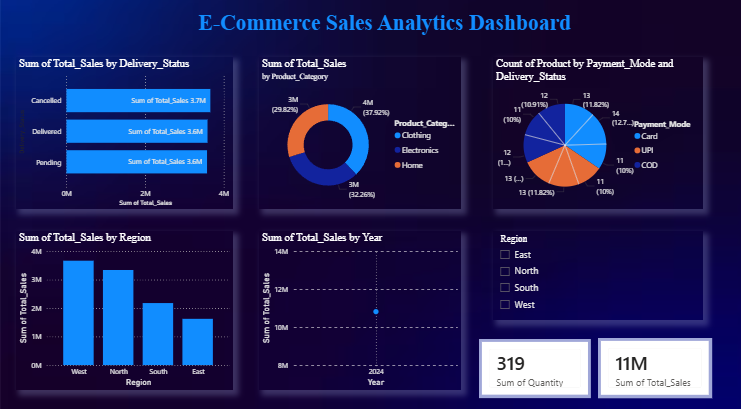

What the dashboard file says about the page in this screenshot:
{"tool":"powerbi","page":{"name":"Page 1","canvas":[1280,720],"ordinal":0},"visuals":[{"type":"barChart","fields":{"Category":["Ecommerce_Data.Delivery_Status"],"Y":["Sum(Ecommerce_Data.Total_Sales)"]},"box":[27.6,98.3,374.3,262.2],"z":0},{"type":"columnChart","fields":{"Category":["Ecommerce_Data.Region"],"Y":["Sum(Ecommerce_Data.Total_Sales)"]},"box":[27.6,398.5,374.3,274.3],"z":2000},{"type":"donutChart","fields":{"Category":["Ecommerce_Data.Product_Category"],"Y":["Sum(Ecommerce_Data.Total_Sales)"]},"box":[446.8,98.3,348.5,262.2],"z":3000},{"type":"lineChart","fields":{"Category":["Ecommerce_Data.Order_Date.Variation.Date Hierarchy.Year","Ecommerce_Data.Order_Date.Variation.Date Hierarchy.Quarter","Ecommerce_Data.Order_Date.Variation.Date Hierarchy.Month","Ecommerce_Data.Order_Date.Variation.Date Hierarchy.Day"],"Y":["Sum(Ecommerce_Data.Total_Sales)"]},"box":[446.8,398.5,348.5,274.3],"z":4000},{"type":"pieChart","fields":{"Category":["Ecommerce_Data.Payment_Mode"],"Series":["Ecommerce_Data.Delivery_Status"],"Y":["CountNonNull(Ecommerce_Data.Product)"]},"box":[850.5,98.3,362.3,262.2],"z":5000},{"type":"textbox","box":[169.1,12.1,950.5,62.1],"z":5002},{"type":"slicer","fields":{"Values":["Ecommerce_Data.Region"]},"box":[850.5,398.5,362.3,153.5],"z":5003},{"type":"cardVisual","fields":{"Data":["Sum(Ecommerce_Data.Total_Sales)"]},"box":[1031.6,583.1,196.7,103.5],"z":5004},{"type":"cardVisual","fields":{"Data":["Sum(Ecommerce_Data.Quantity)"]},"box":[826.3,584.8,193.2,101.8],"z":5005}]}

Visuals, with their boxes in screenshot pixels (x1, y1, x2, y2), scaled from the page's 1280x720 canvas onto the 741x409 screenshot:
barChart - Ecommerce_Data.Delivery_Status x Sum(Ecommerce_Data.Total_Sales): 16, 56, 233, 205
columnChart - Ecommerce_Data.Region x Sum(Ecommerce_Data.Total_Sales): 16, 226, 233, 382
donutChart - Ecommerce_Data.Product_Category x Sum(Ecommerce_Data.Total_Sales): 259, 56, 460, 205
lineChart - Ecommerce_Data.Order_Date.Variation.Date Hierarchy.Year x Ecommerce_Data.Order_Date.Variation.Date Hierarchy.Quarter: 259, 226, 460, 382
pieChart - Ecommerce_Data.Payment_Mode x Ecommerce_Data.Delivery_Status: 492, 56, 702, 205
textbox: 98, 7, 648, 42
slicer - Ecommerce_Data.Region: 492, 226, 702, 314
cardVisual - Sum(Ecommerce_Data.Total_Sales): 597, 331, 711, 390
cardVisual - Sum(Ecommerce_Data.Quantity): 478, 332, 590, 390
